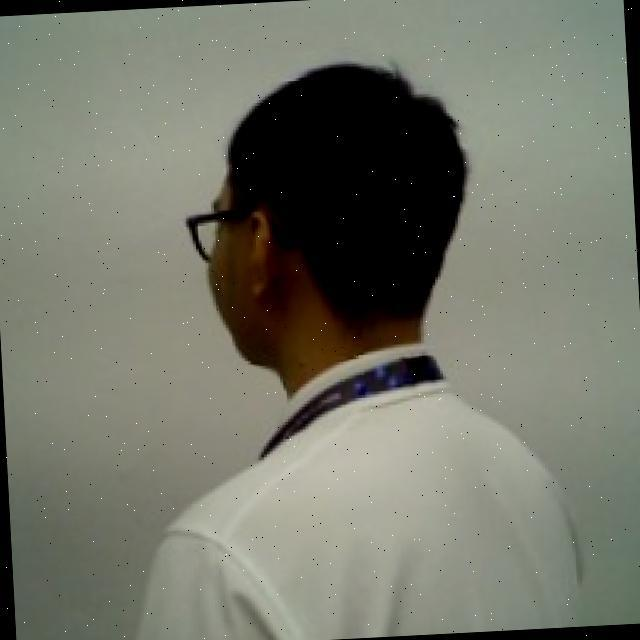no_gloves: (210, 51, 495, 362)
